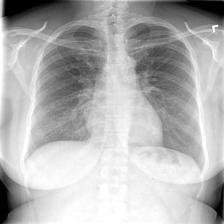normal: (22, 12, 210, 175)
